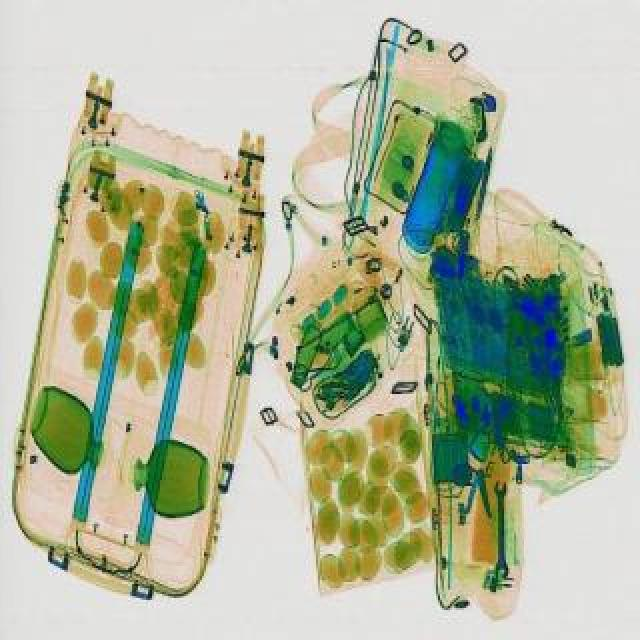scissors: (492, 476, 508, 574)
